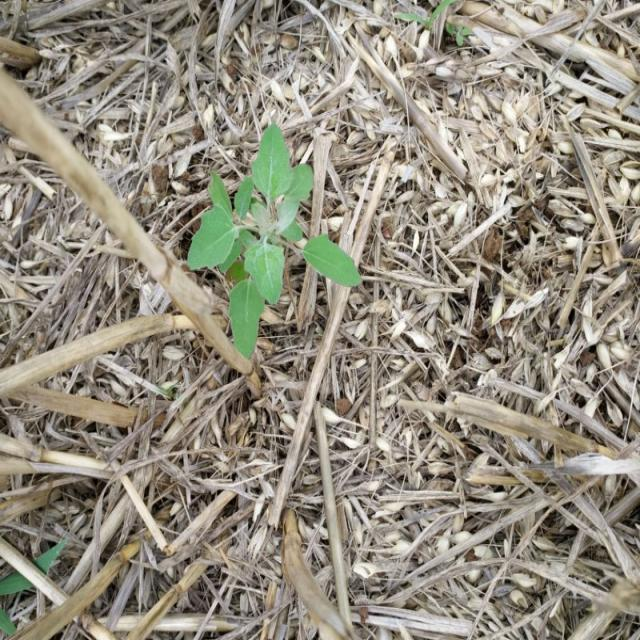ca: (190, 123, 364, 357)
